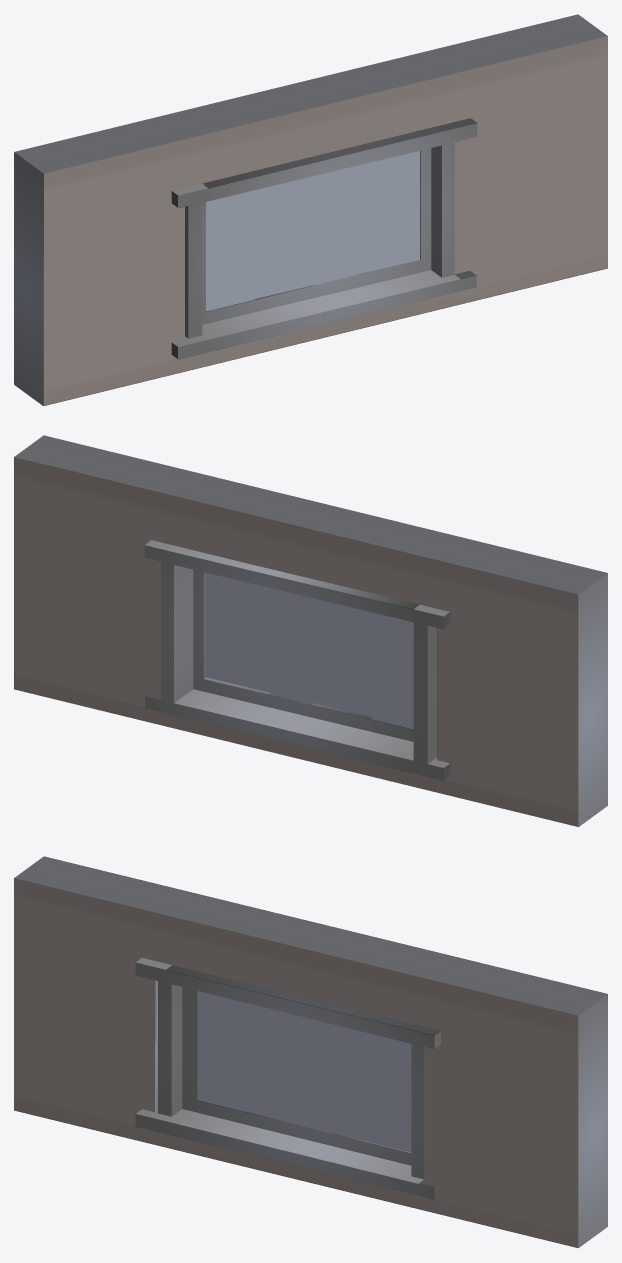
The model's file is top_roof_window.FBX.
3 views of the same model, one above another, from view 1: azimuth 30°, elevation 25°; view 2: azimuth 150°, elevation 25°; view 3: azimuth 330°, elevation 25° (orthographic).
Visible parts, largest first — view 1: top_roof_window_1_009; view 2: top_roof_window_1_009; view 3: top_roof_window_1_009.
Part boxes in pixels (box(x1,y1,x2,y2)): top_roof_window_1_009: box(14, 14, 607, 405); top_roof_window_1_009: box(14, 435, 607, 826); top_roof_window_1_009: box(14, 856, 607, 1248).
Bounding box in the file's own units: 723 × 285 × 94.35.
1 material, 1 textured.
